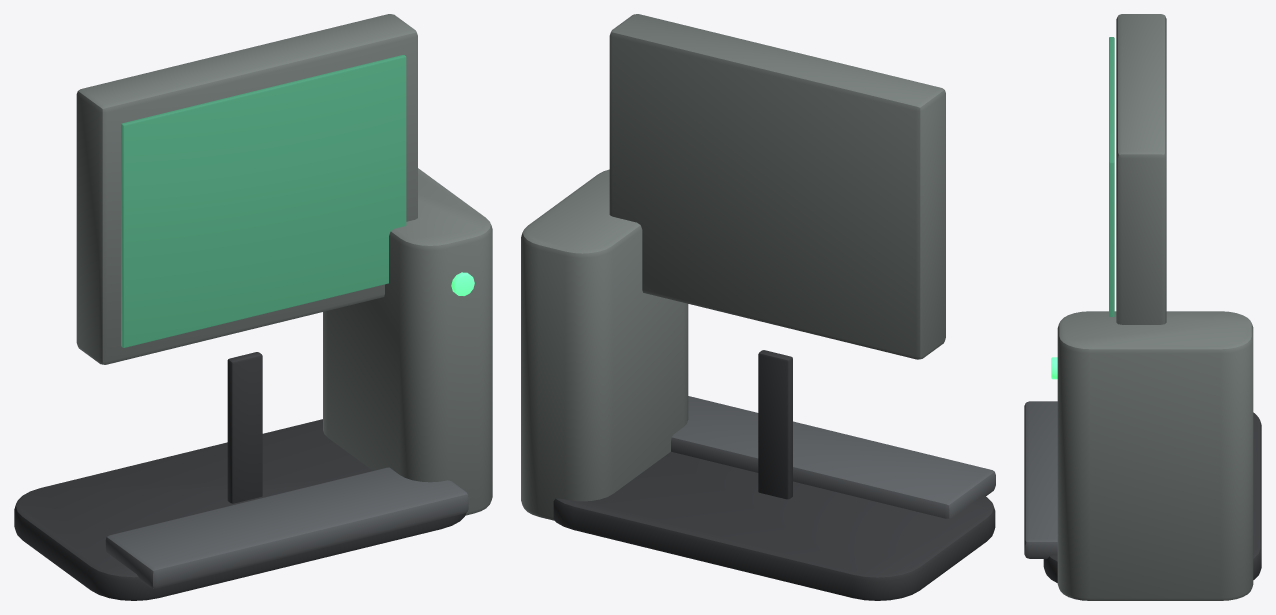
Rendered from computer_municipal.glb.
3 views of the same model, side by side, from view 1: azimuth 30°, elevation 25°; view 2: azimuth 150°, elevation 25°; view 3: azimuth 270°, elevation 25° (orthographic). The views are drawn at different scales.
Parts seen in each view (by area): view 1: Computer_Monitor_1_Screen, Computer_Tower, Computer_Monitor_1_Back, Computer_Base, Computer_Keyboard, Computer_Monitor_1_Stem; view 2: Computer_Monitor_1_Back, Computer_Tower, Computer_Base, Computer_Keyboard, Computer_Monitor_1_Stem; view 3: Computer_Tower, Computer_Monitor_1_Back, Computer_Keyboard, Computer_Base, Computer_Monitor_1_Screen.
Boxes of the visible parts, box(x1,y1,x2,y2) form: Computer_Monitor_1_Screen: box(121, 55, 406, 347); Computer_Tower: box(323, 168, 492, 515); Computer_Monitor_1_Back: box(76, 14, 417, 364); Computer_Base: box(14, 419, 466, 600); Computer_Keyboard: box(105, 467, 468, 588); Computer_Monitor_1_Stem: box(227, 352, 262, 503); Computer_Monitor_1_Back: box(609, 14, 945, 359); Computer_Tower: box(521, 169, 688, 520); Computer_Base: box(553, 451, 995, 600); Computer_Keyboard: box(671, 396, 995, 518); Computer_Monitor_1_Stem: box(758, 350, 792, 499); Computer_Tower: box(1057, 311, 1253, 600); Computer_Monitor_1_Back: box(1116, 14, 1166, 324); Computer_Keyboard: box(1024, 401, 1057, 558); Computer_Base: box(1043, 412, 1261, 582); Computer_Monitor_1_Screen: box(1109, 37, 1114, 316).
Size of what is drawn, in the model's own units: 0.45 by 0.5044 by 0.255.
